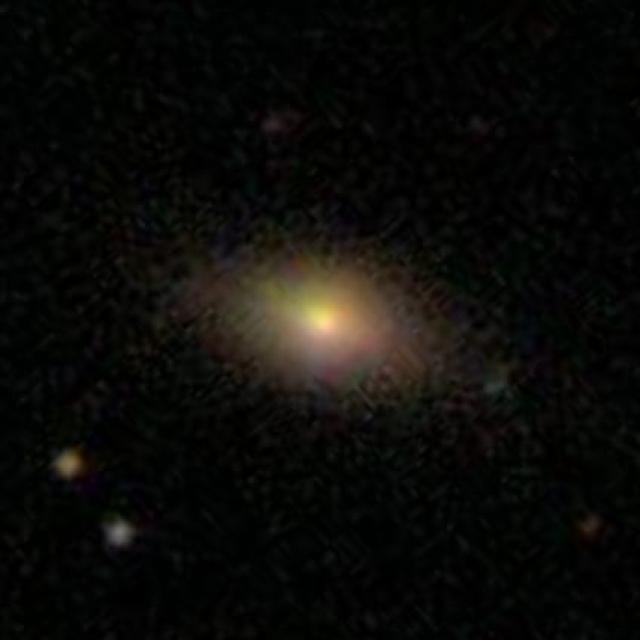galaxy: (158, 223, 511, 423), (100, 508, 143, 558), (48, 445, 86, 488)
